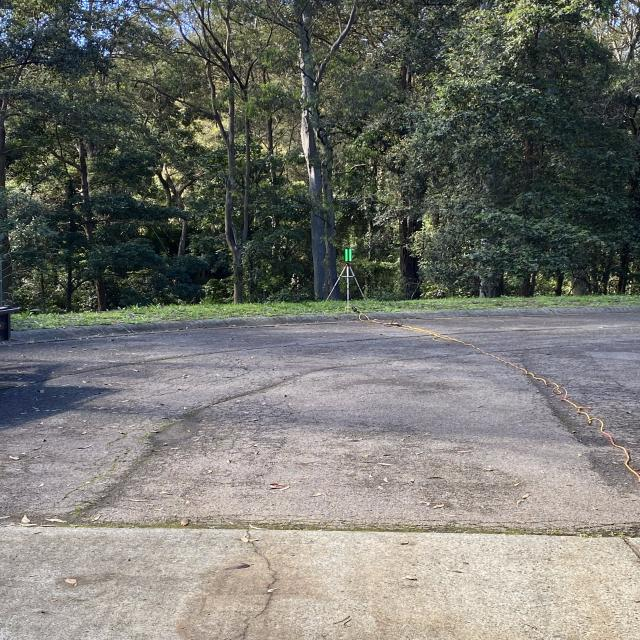matrix: (343, 248, 355, 262)
